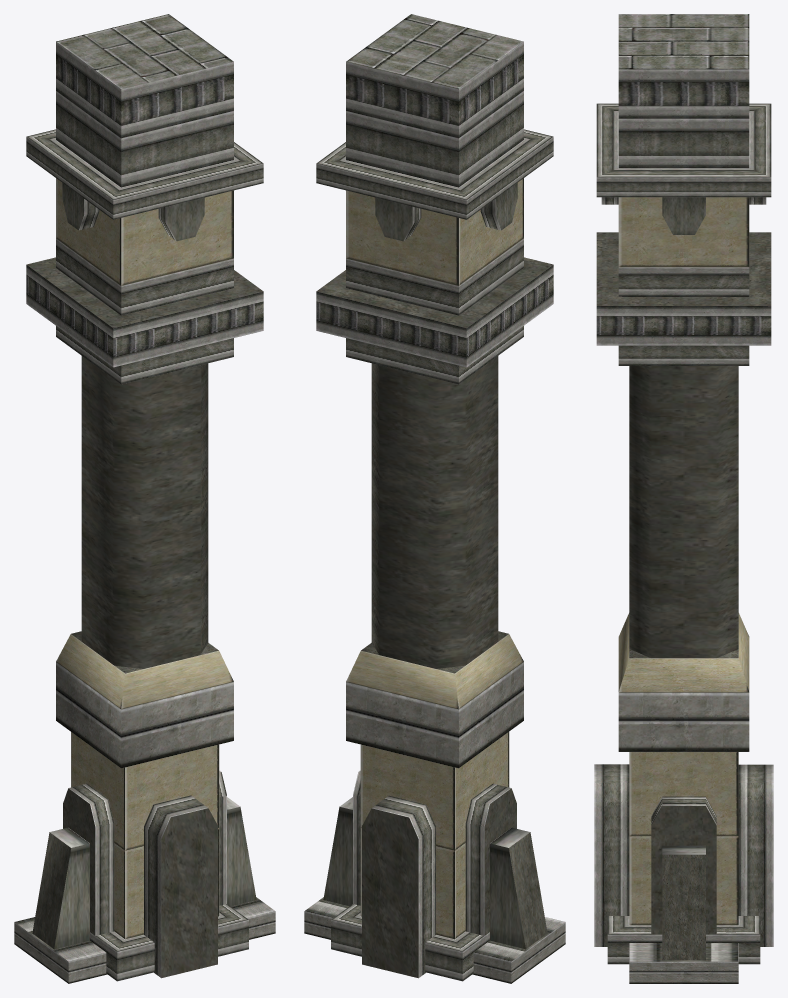
Rendered from L_MOUNTAIN_BALK_COLUMN01.fbx.
3 views of the same model, side by side, from view 1: azimuth 30°, elevation 25°; view 2: azimuth 150°, elevation 25°; view 3: azimuth 270°, elevation 25° (orthographic).
Visible parts, largest first — view 1: L_MOUNTAIN_BALK_COLUMN01; view 2: L_MOUNTAIN_BALK_COLUMN01; view 3: L_MOUNTAIN_BALK_COLUMN01.
Boxes of the visible parts, x1,y1,x2,y2 form: L_MOUNTAIN_BALK_COLUMN01: (14, 14, 275, 983); L_MOUNTAIN_BALK_COLUMN01: (304, 14, 565, 983); L_MOUNTAIN_BALK_COLUMN01: (594, 14, 773, 983).
Bounding box in the file's own units: 22003 × 90132 × 16428.
Materials: 7 (7 with a texture image).
